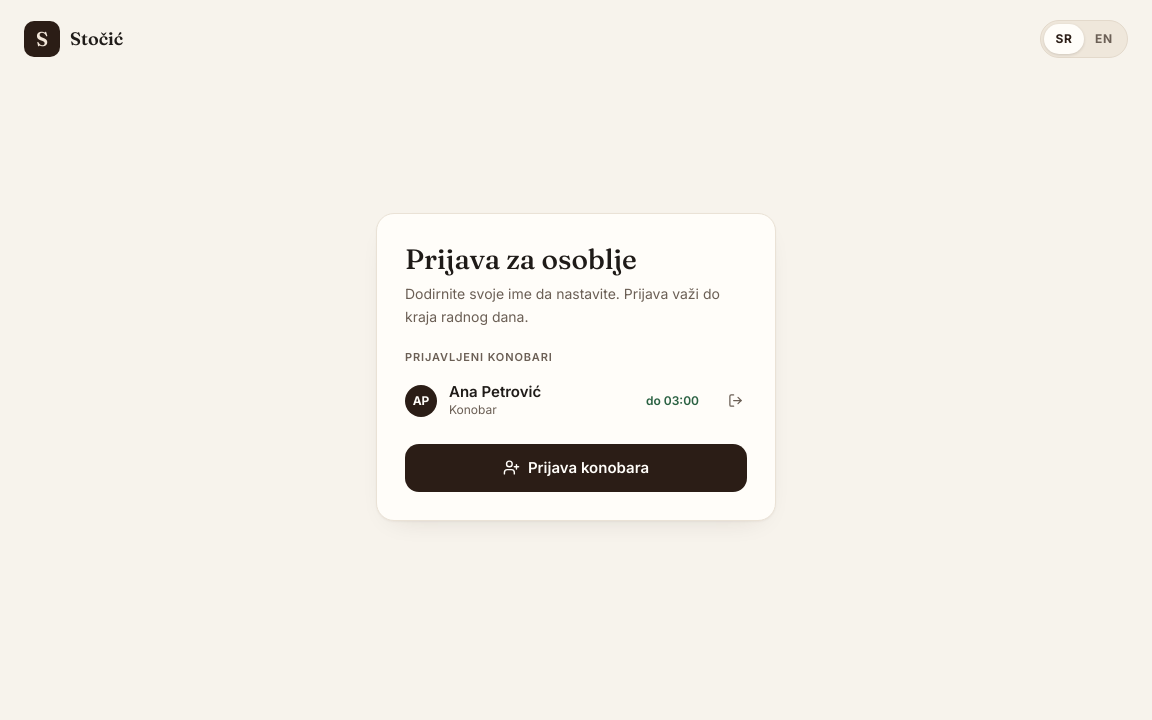
Test: staff › a waiter who goes home early ends the shift from the list
Click the button named "Završi smenu: Ana Petrović" at [735, 400], box [713, 378, 757, 422]
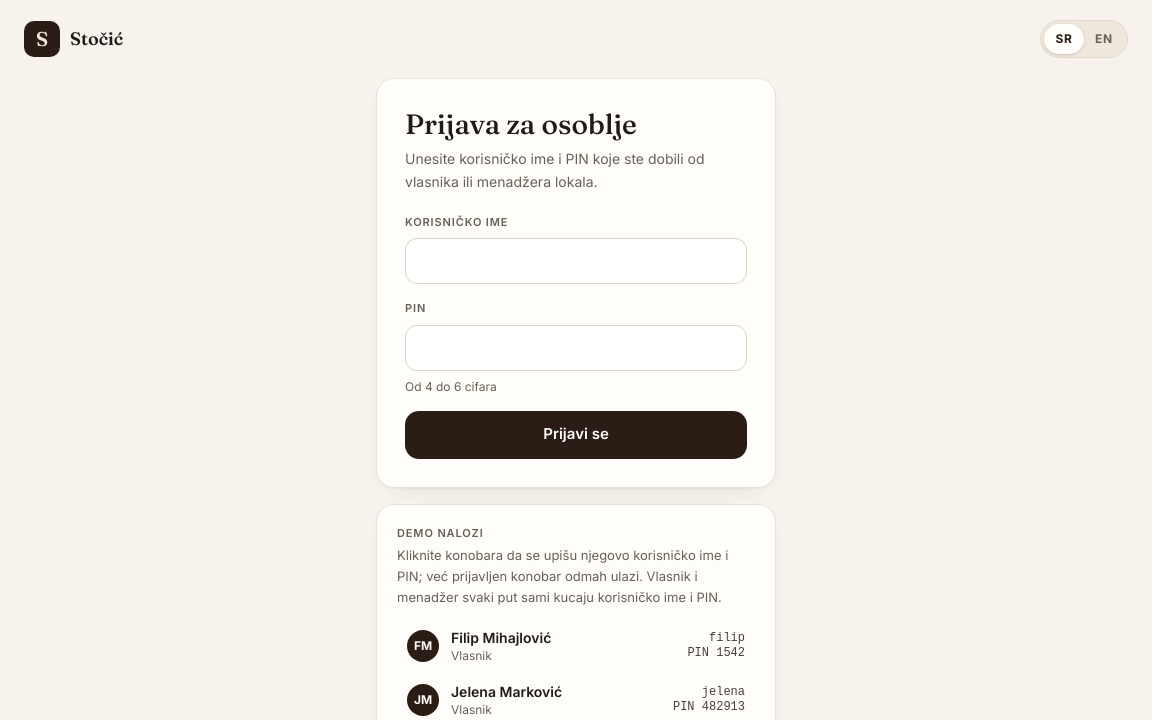
Expected: the text "Korisničko ime" is shown, [405, 214, 508, 228]
